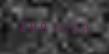eight: (26, 19, 34, 33)
one: (53, 19, 61, 34), (62, 20, 70, 34)
seven: (44, 19, 52, 33)
two: (80, 20, 88, 35), (17, 18, 25, 32)
zero: (35, 19, 43, 33), (71, 20, 79, 34)
